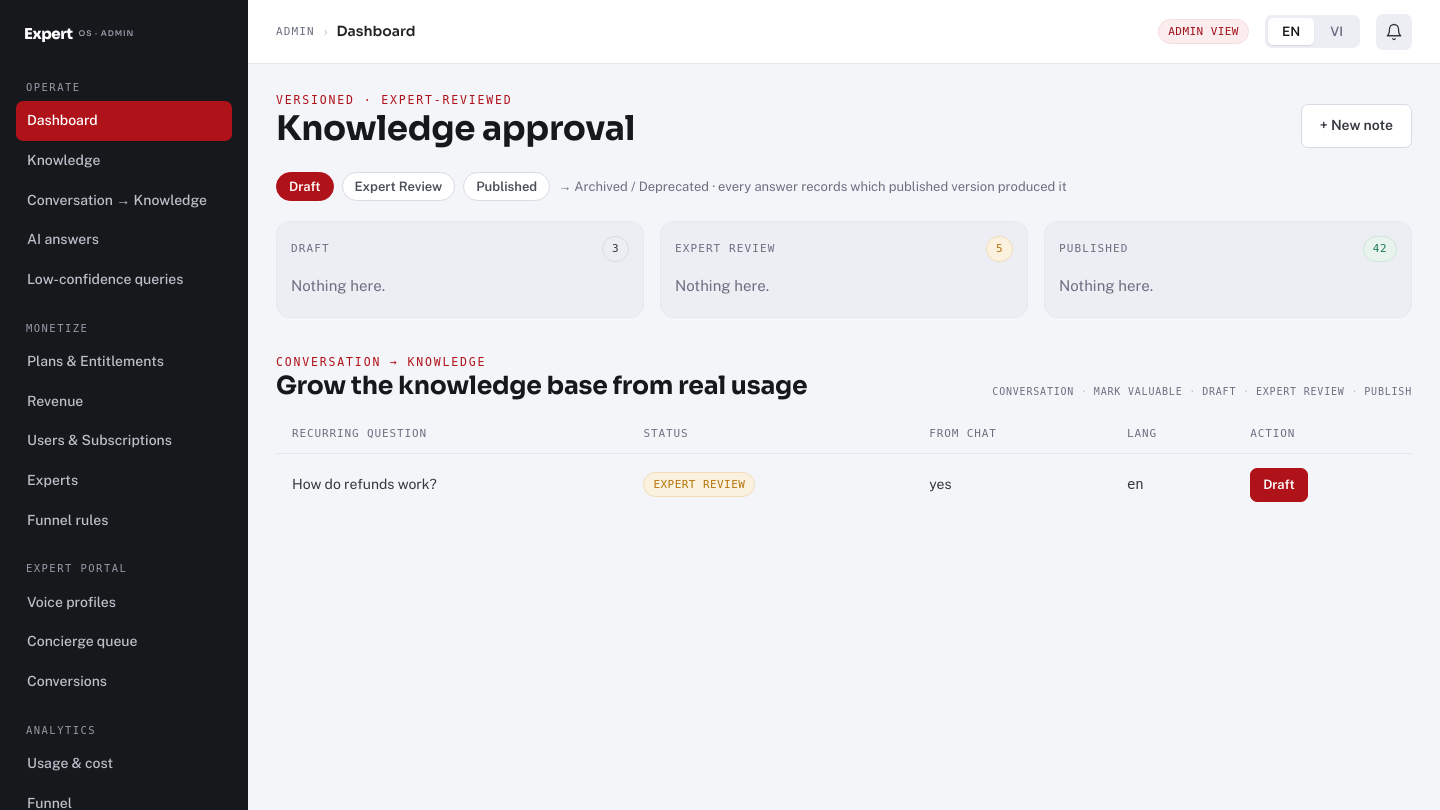
Test case: KnowledgeApprovalPage — status pipeline filter › filters the board to a single column when a step is toggled
Expected: the number of elements with class "kanban-col" is 3, [276,222,644,318]; [660,222,1028,318]; [1044,222,1412,318]
Click the button with class "kanban-step" showing "Published" at (507, 187), box [463,172,550,202]
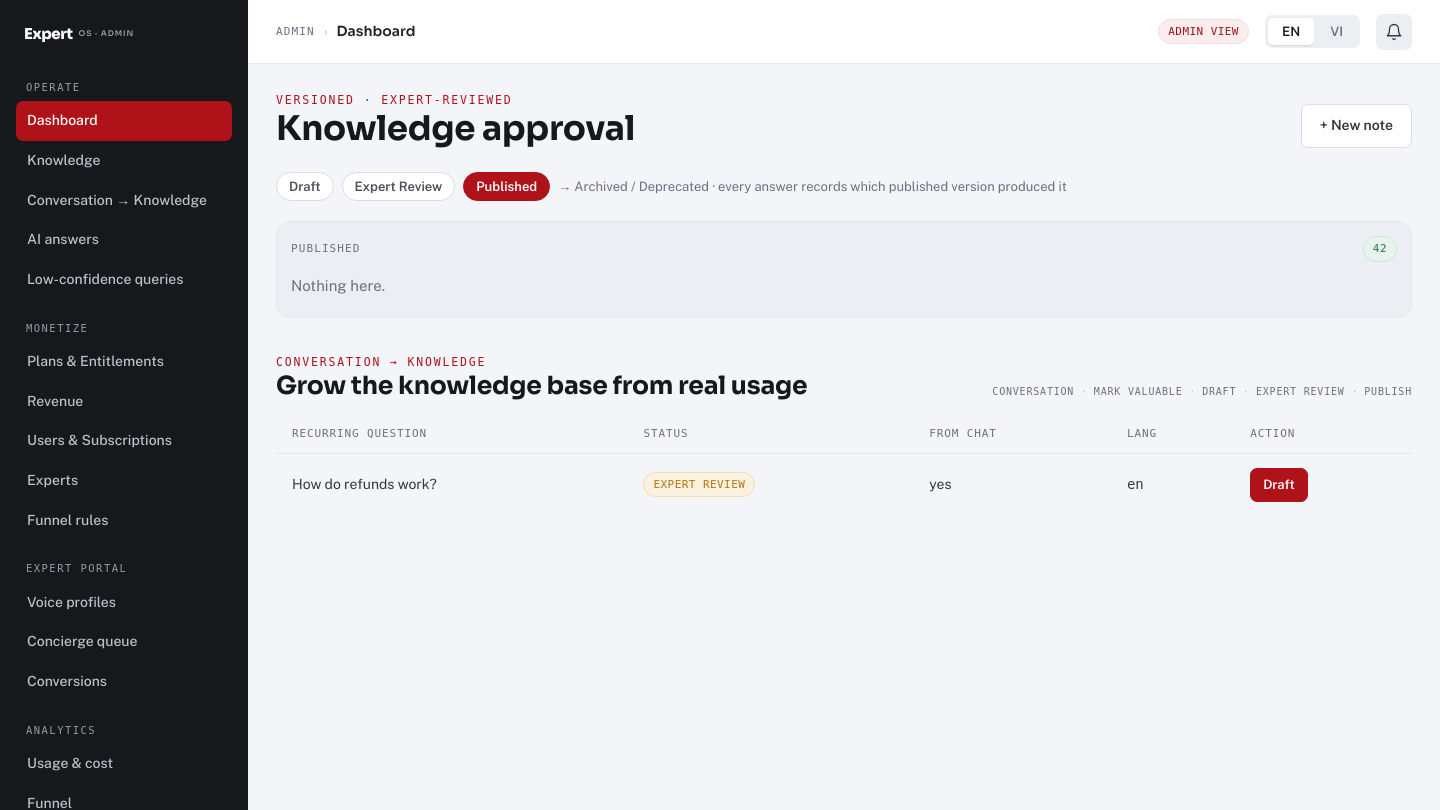
Expected: the text "Published" is shown, [291,240,360,258]
Result: the number of elements with class "kanban-col" is 1 at [276,222,1412,318]
